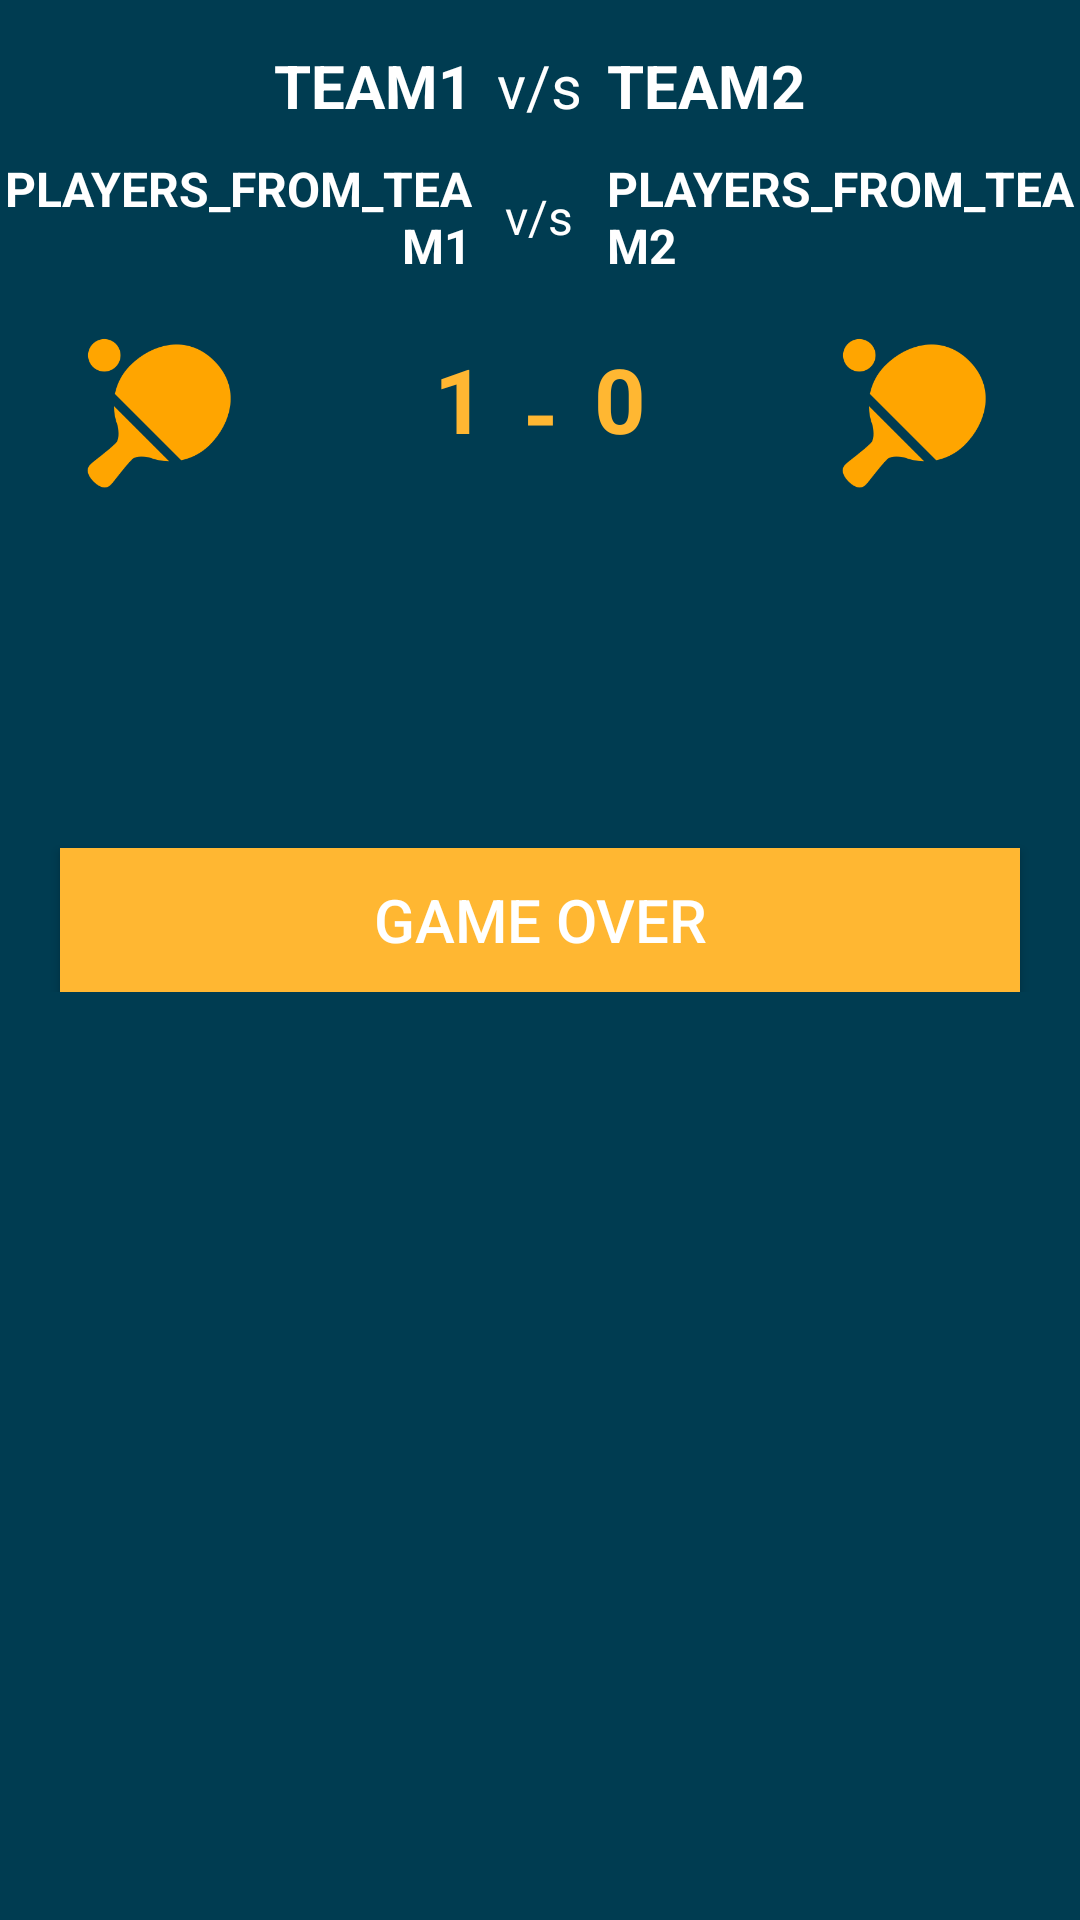

Icon click points for this 1080x1920 phone screenshot, format point (x, y):
bat: point (159, 413), point (914, 413)
